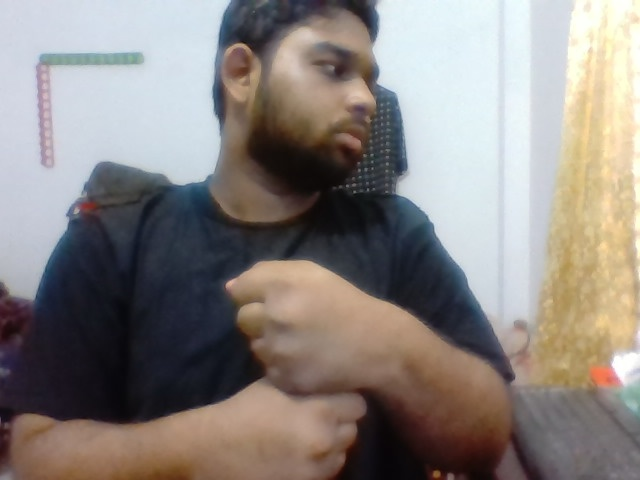G: (208, 251, 378, 479)
